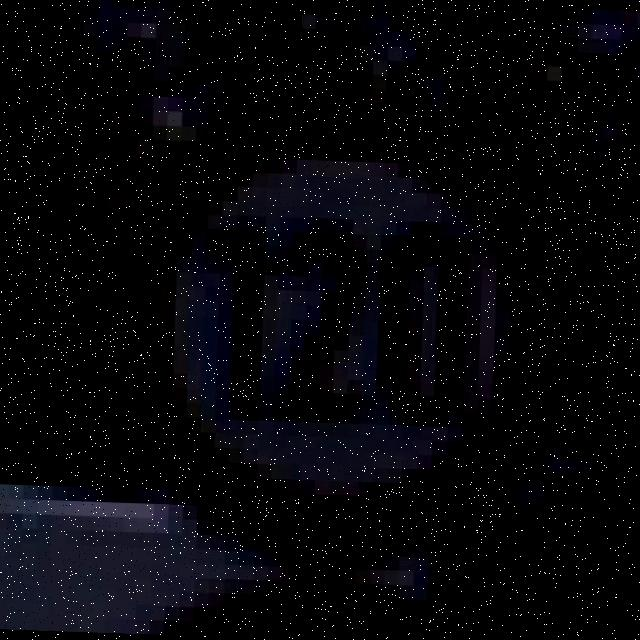Ograniczenie predkosci do 120: (92, 85, 575, 566)
